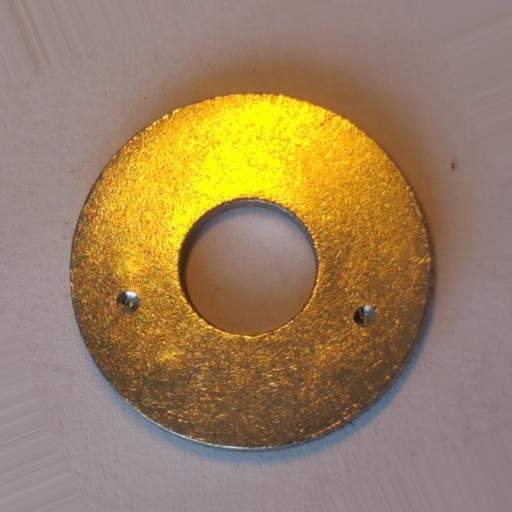circular_cavity: (116, 289, 142, 315), (352, 303, 378, 327)
